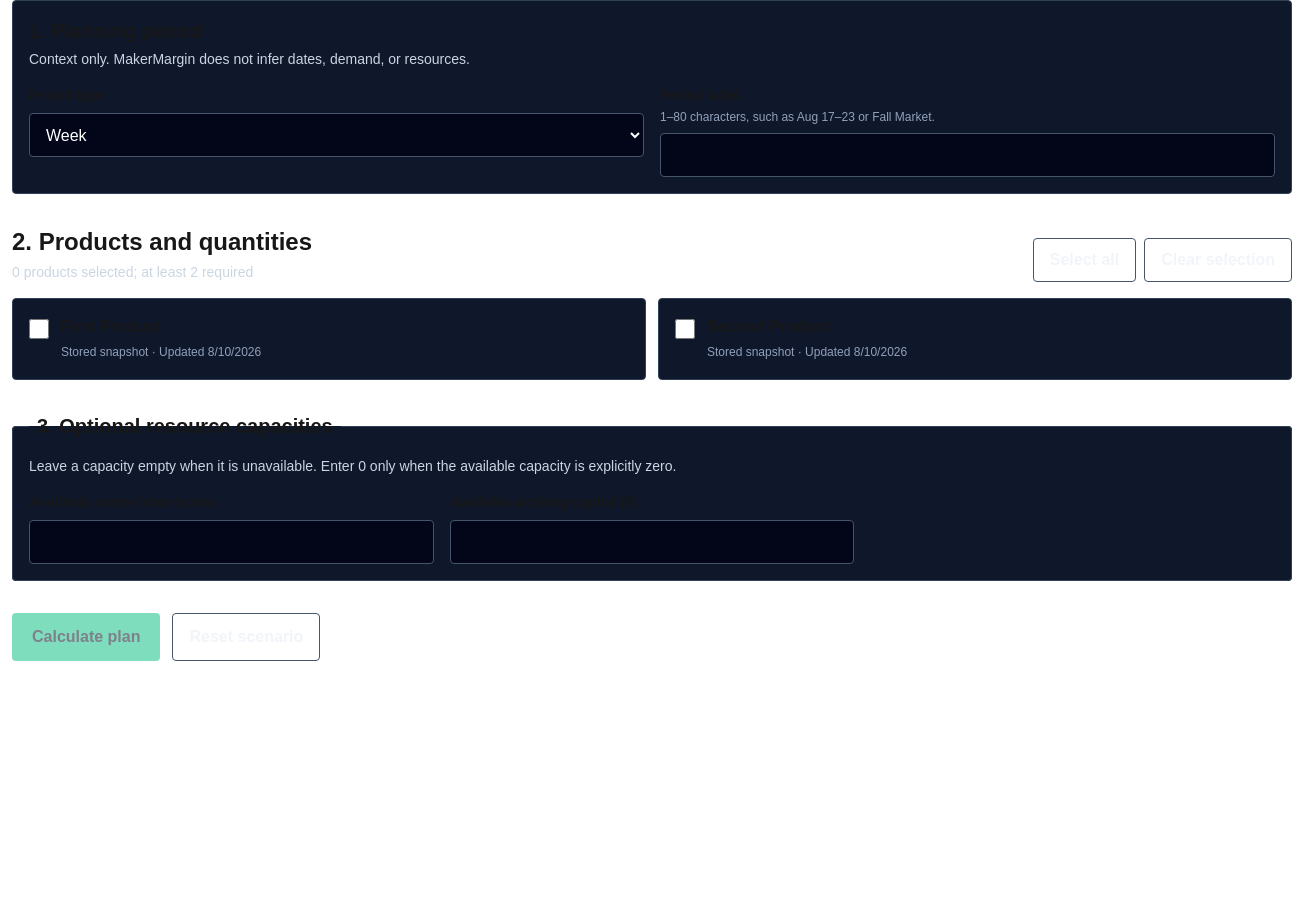
Scenario: PlanWorkspace setup › shows whole-batch and optional demand inputs only for selected products
Click the checkbox labelled "First Product Stored snapshot · Updated 8/10/2026": (39, 329) [29, 319, 49, 339]
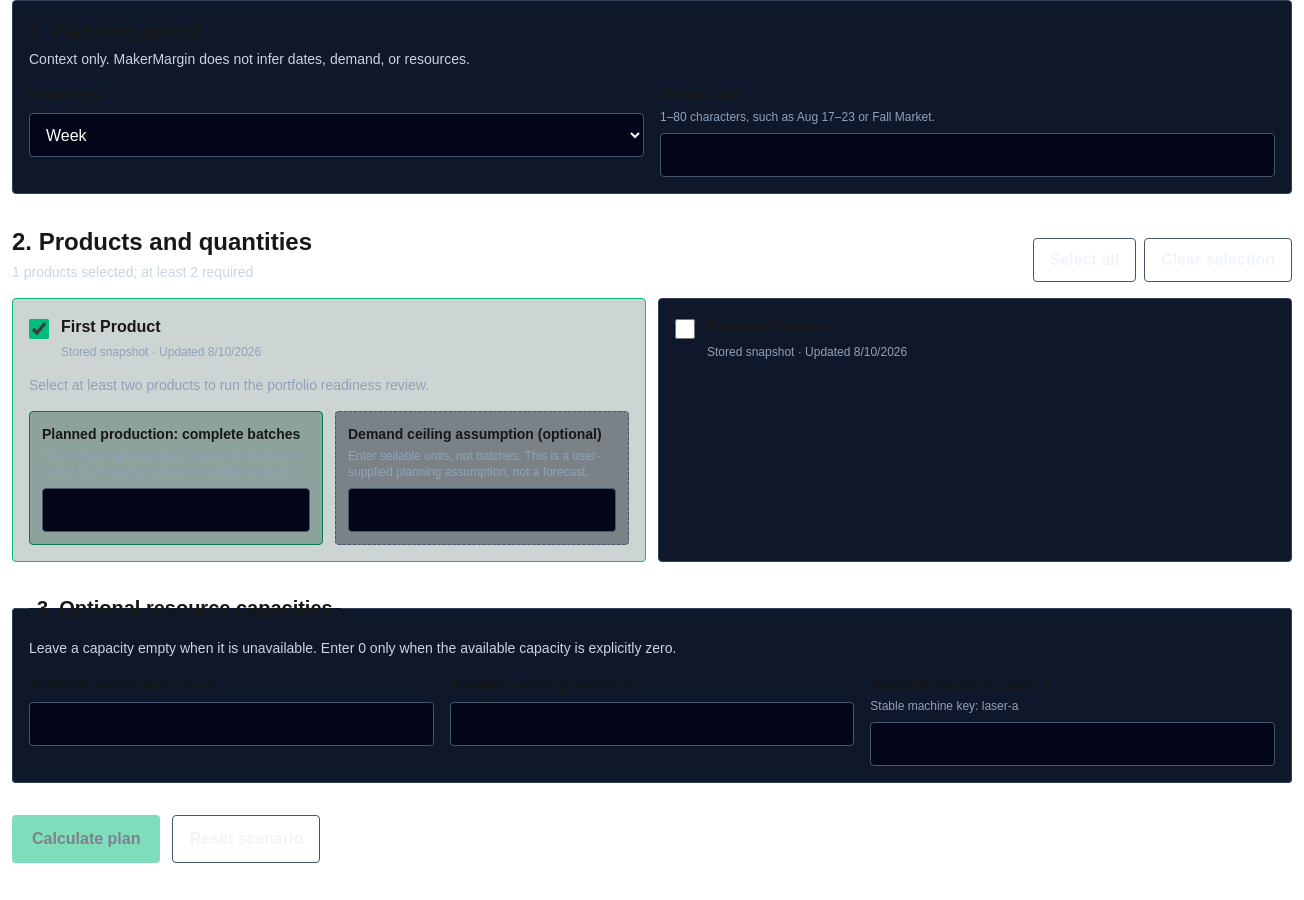
Now the number of number fields labelled "Planned production: complete batches" is 1, box [42, 488, 310, 532]
Now the text "whole representative production batches to make" is shown, box [42, 449, 303, 479]
Now the text "not a forecast" is shown, box [348, 449, 600, 479]
